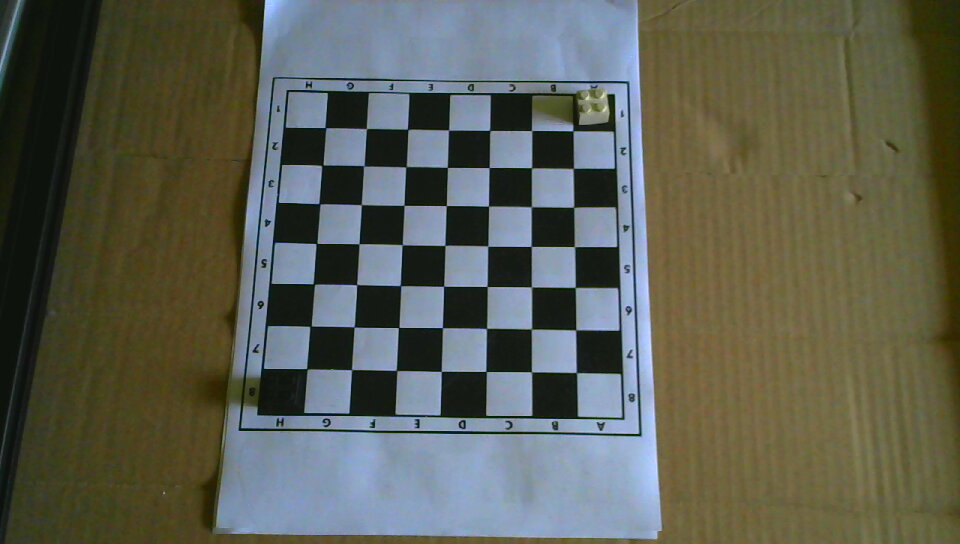bp: (264, 371, 303, 411)
wp: (575, 88, 610, 126)
